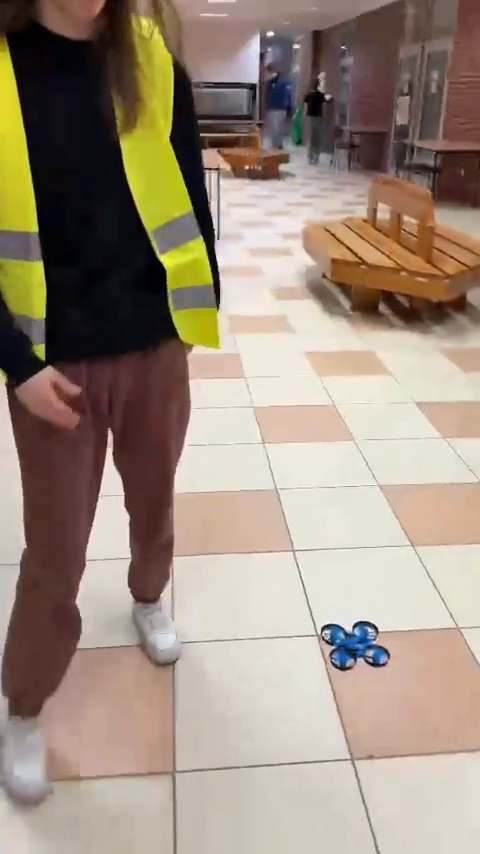drone: (319, 619, 391, 668)
no vest: (255, 67, 291, 162), (300, 76, 332, 175)
vest: (0, 3, 234, 788)
